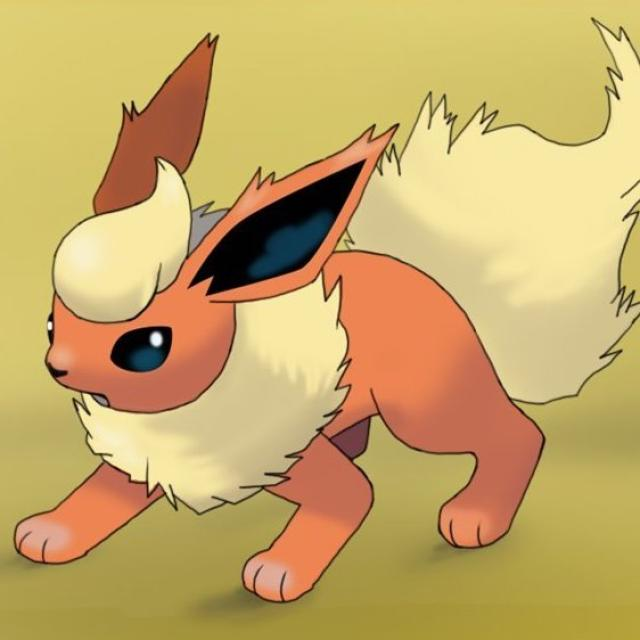Flareon: (45, 131, 550, 593)
